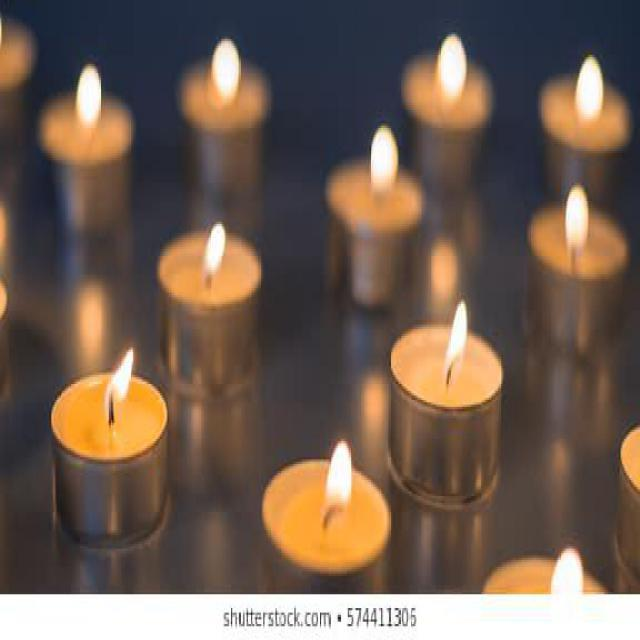Fire: (326, 441, 353, 512), (446, 302, 468, 382), (106, 348, 134, 410), (202, 223, 226, 274)
